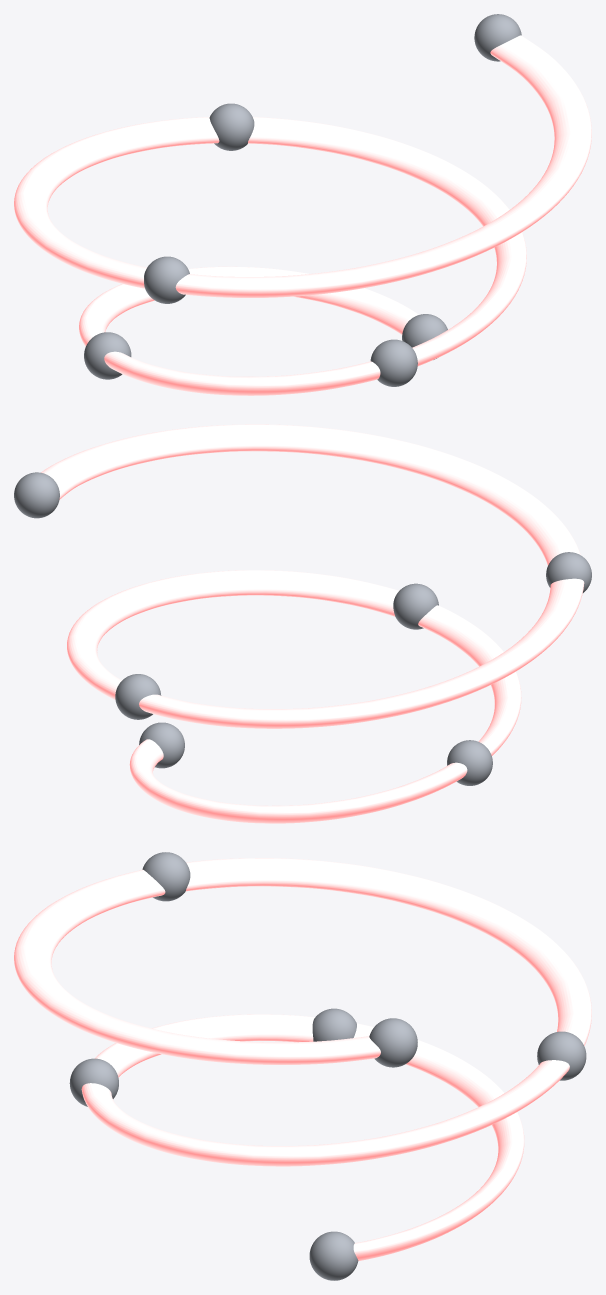
Rendered from espiral.glb.
3 views of the same model, one above another, from view 1: azimuth 30°, elevation 25°; view 2: azimuth 150°, elevation 25°; view 3: azimuth 270°, elevation 25° (orthographic). The views are drawn at different scales.
Parts seen in each view (by area): view 1: Spiral.002, Cube_E3.001, Cube_E4.001, Cube_E5.001, Cube_E1.002, Cube_E6.001, Cube_E1.001; view 2: Spiral.002, Cube_E6.001, Cube_E3.001, Cube_E1.002, Cube_E4.001, Cube_E1.001, Cube_E5.001; view 3: Spiral.002, Cube_E1.001, Cube_E6.001, Cube_E5.001, Cube_E4.001, Cube_E3.001, Cube_E1.002.
Part boxes in pixels (<box>): Spiral.002: <box>14,35,591,395</box>; Cube_E3.001: <box>370,339,417,386</box>; Cube_E4.001: <box>209,103,254,150</box>; Cube_E5.001: <box>144,256,189,303</box>; Cube_E1.002: <box>84,332,131,379</box>; Cube_E6.001: <box>474,14,521,61</box>; Cube_E1.001: <box>402,314,447,359</box>; Spiral.002: <box>41,424,584,823</box>; Cube_E6.001: <box>14,472,59,518</box>; Cube_E3.001: <box>393,583,438,629</box>; Cube_E1.002: <box>447,740,492,785</box>; Cube_E4.001: <box>115,674,161,719</box>; Cube_E1.001: <box>139,722,184,768</box>; Cube_E5.001: <box>546,552,591,592</box>; Spiral.002: <box>14,858,591,1260</box>; Cube_E1.001: <box>309,1231,358,1280</box>; Cube_E6.001: <box>369,1018,417,1067</box>; Cube_E5.001: <box>142,852,190,901</box>; Cube_E4.001: <box>537,1031,586,1080</box>; Cube_E3.001: <box>69,1058,118,1106</box>; Cube_E1.002: <box>312,1008,356,1041</box>.
Bounding box in the file's own units: 31.07 × 17.33 × 29.37.
